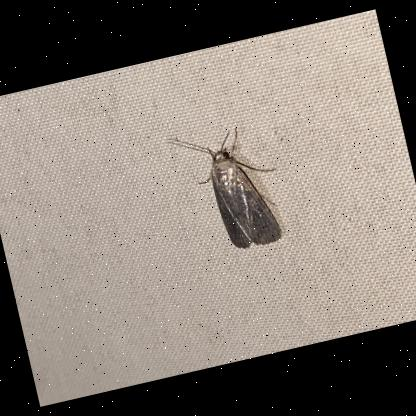Fall Armyworm Moth: (164, 114, 294, 263)
